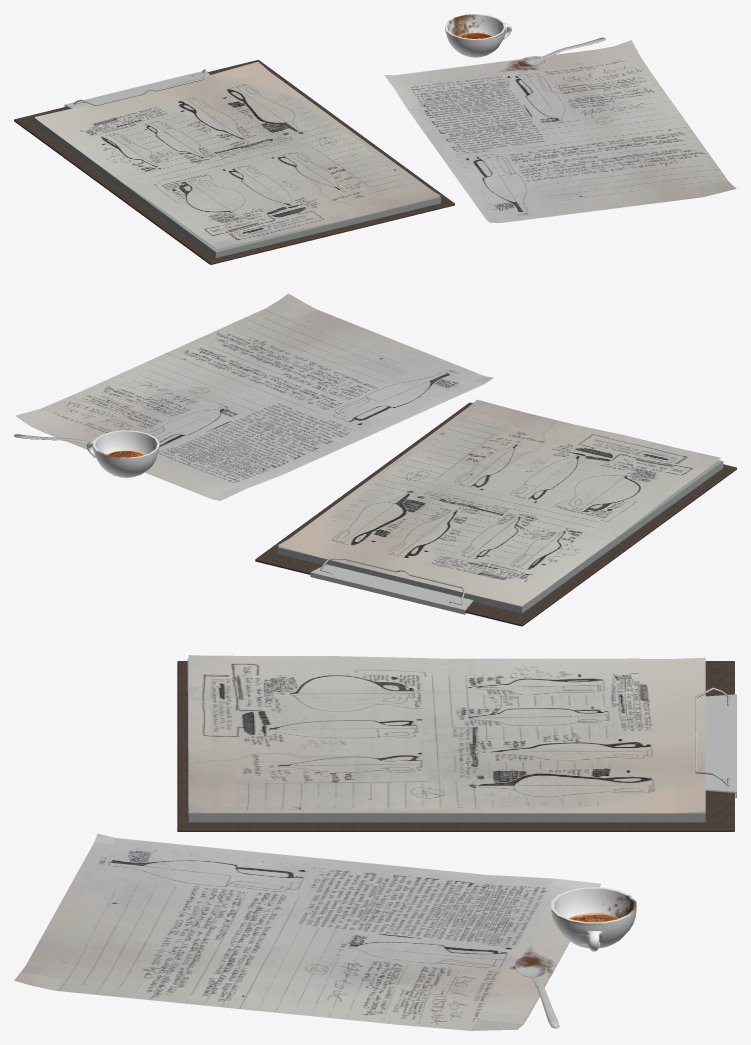
File: Block_Notes.fbx
3 renders of one model, top to bottom at view 1: azimuth 30°, elevation 25°; view 2: azimuth 150°, elevation 25°; view 3: azimuth 270°, elevation 25°, orthographic. The views are drawn at different scales.
Visible parts, largest first — view 1: Block_Notes; view 2: Block_Notes; view 3: Block_Notes.
Part boxes in pixels (box(x1,y1,x2,y2)): Block_Notes: box(14, 14, 736, 264); Block_Notes: box(14, 293, 736, 626); Block_Notes: box(14, 655, 736, 1030).
Size of the model in its own units: 0.5079 by 0.0281 by 0.4151.
